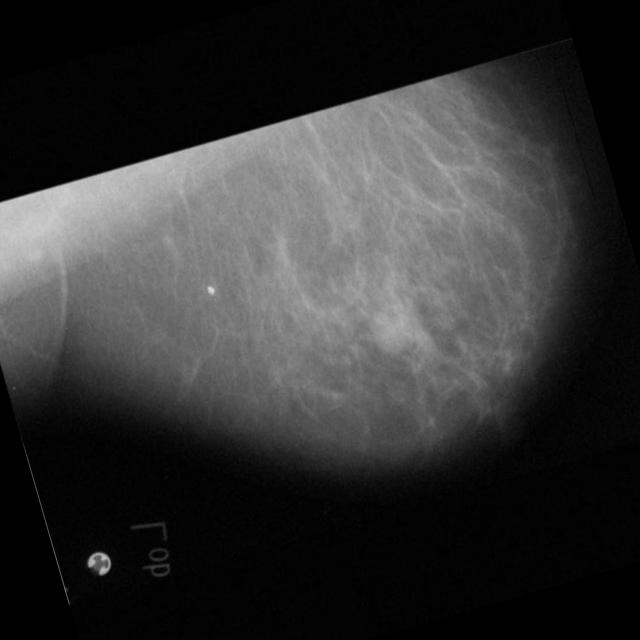CIRC: (358, 298, 426, 366)
